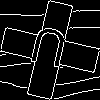U: (25, 25, 71, 78)
